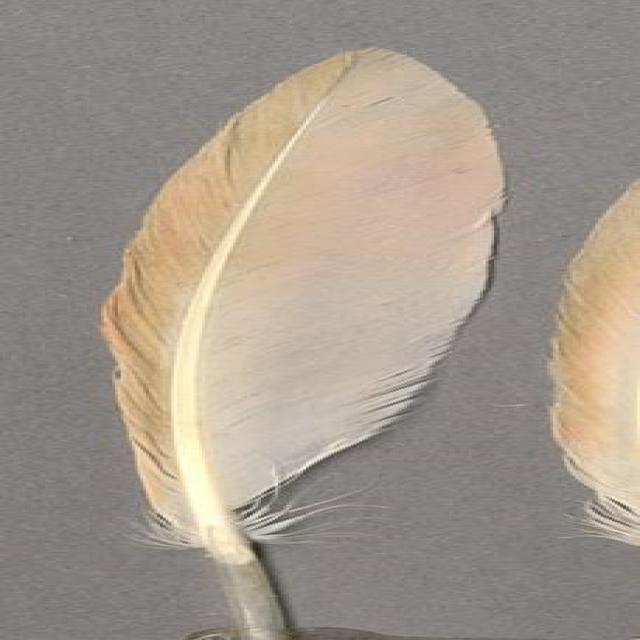feather: (103, 45, 505, 640)
